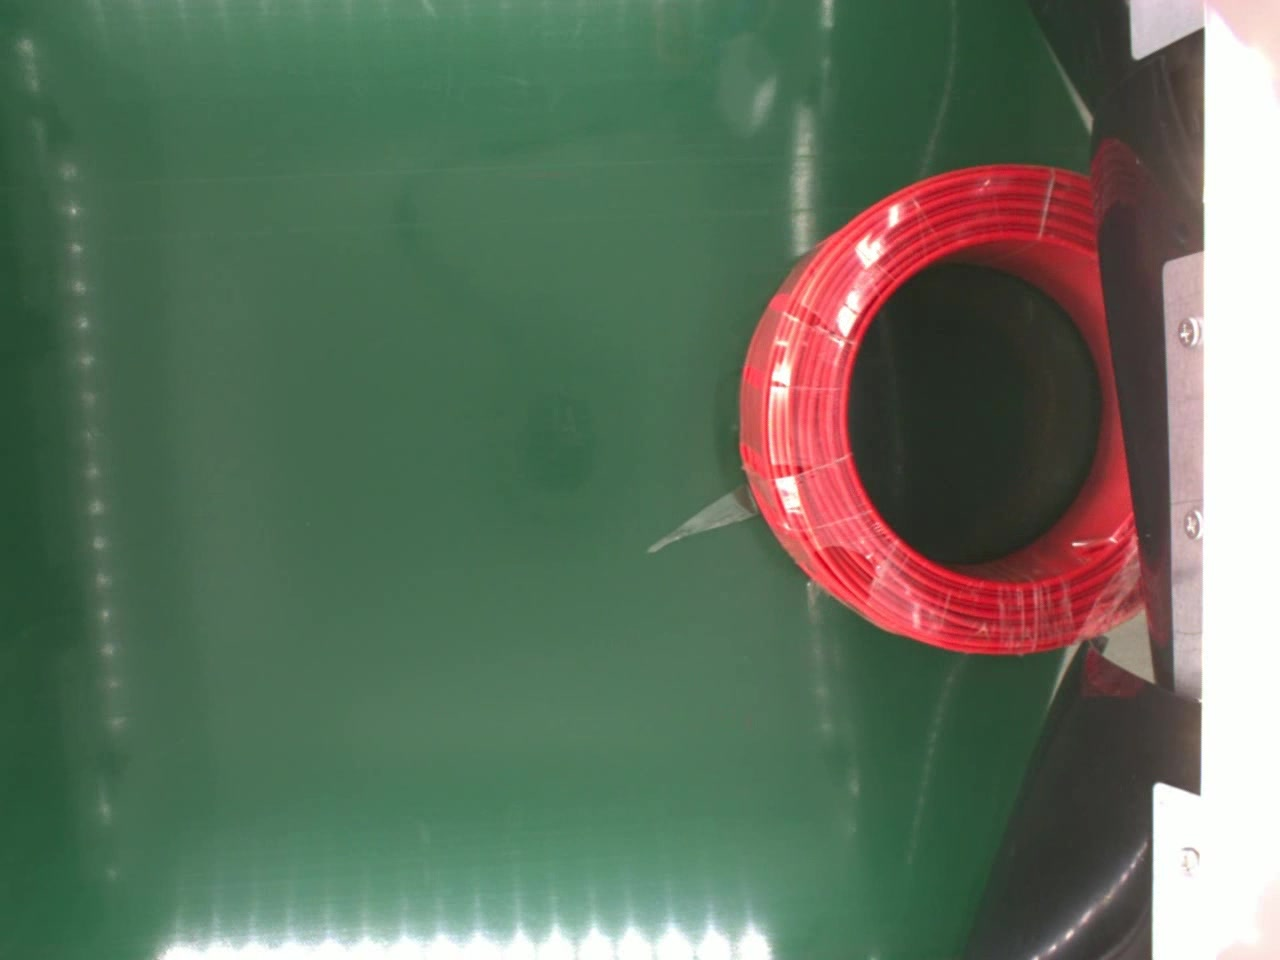red: (735, 164, 1147, 661)
